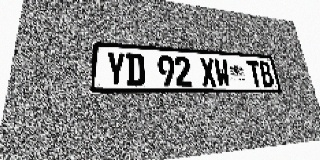2: (174, 56, 192, 86)
9: (157, 55, 176, 86)
B: (258, 61, 275, 87)
D: (126, 53, 145, 86)
T: (246, 60, 263, 87)
W: (213, 58, 231, 87)
X: (199, 57, 217, 86)
Y: (106, 52, 126, 86)
